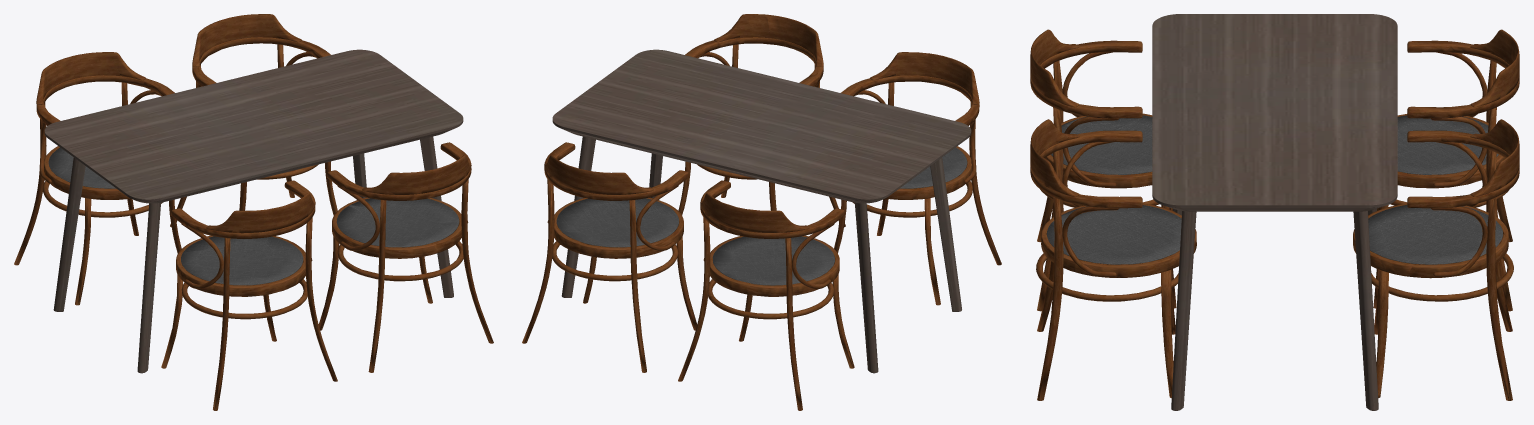
File: dining_set.glb
3 renders of one model, left to right at view 1: azimuth 30°, elevation 25°; view 2: azimuth 150°, elevation 25°; view 3: azimuth 270°, elevation 25°, orthographic. The views are drawn at different scales.
Visible parts, largest first — view 1: Chair_0, Top_2, Legs_1; view 2: Chair_0, Top_2, Legs_1; view 3: Chair_0, Top_2, Legs_1.
Boxes of the visible parts, x1,y1,x2,y2 form: Chair_0: (14,14,493,410); Top_2: (44,49,463,203); Legs_1: (53,136,453,373); Chair_0: (522,14,1001,410); Top_2: (552,49,971,203); Legs_1: (561,136,961,373); Chair_0: (1030,29,1519,400); Top_2: (1152,14,1397,211); Legs_1: (1171,208,1378,410).
Bounding box in the file's own units: 1.46 × 0.8 × 1.58.
Materials: 3 (3 with a texture image).
